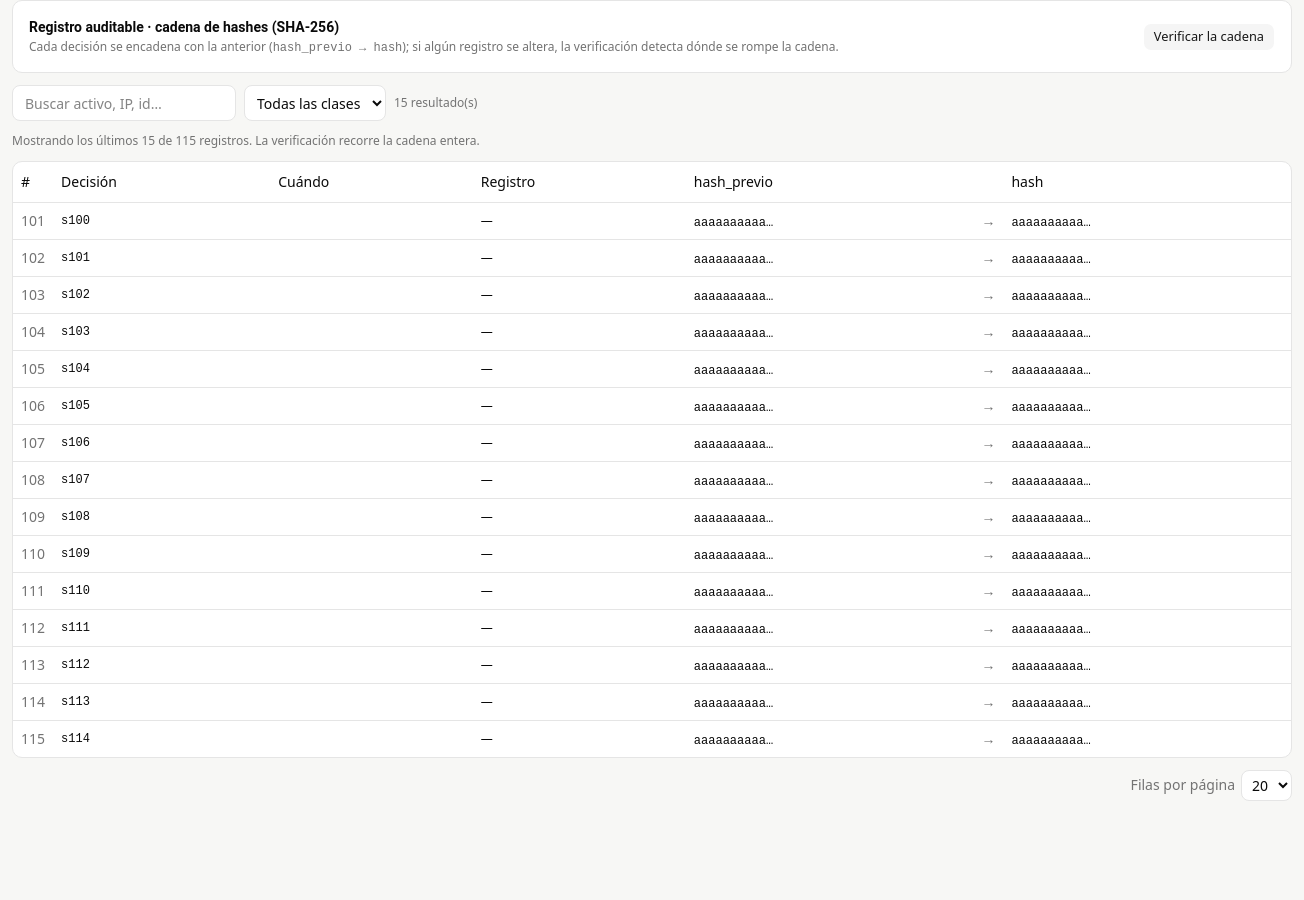
Trazas › permite elegir el tamaño de página (10/20/50)
This screenshot has width=1304, height=900.
Expected: the button "Siguiente" is not shown
Step 1. Select "10" in the dropdown labelled "Filas por página" → (1266, 785), box [1241,770,1292,800]
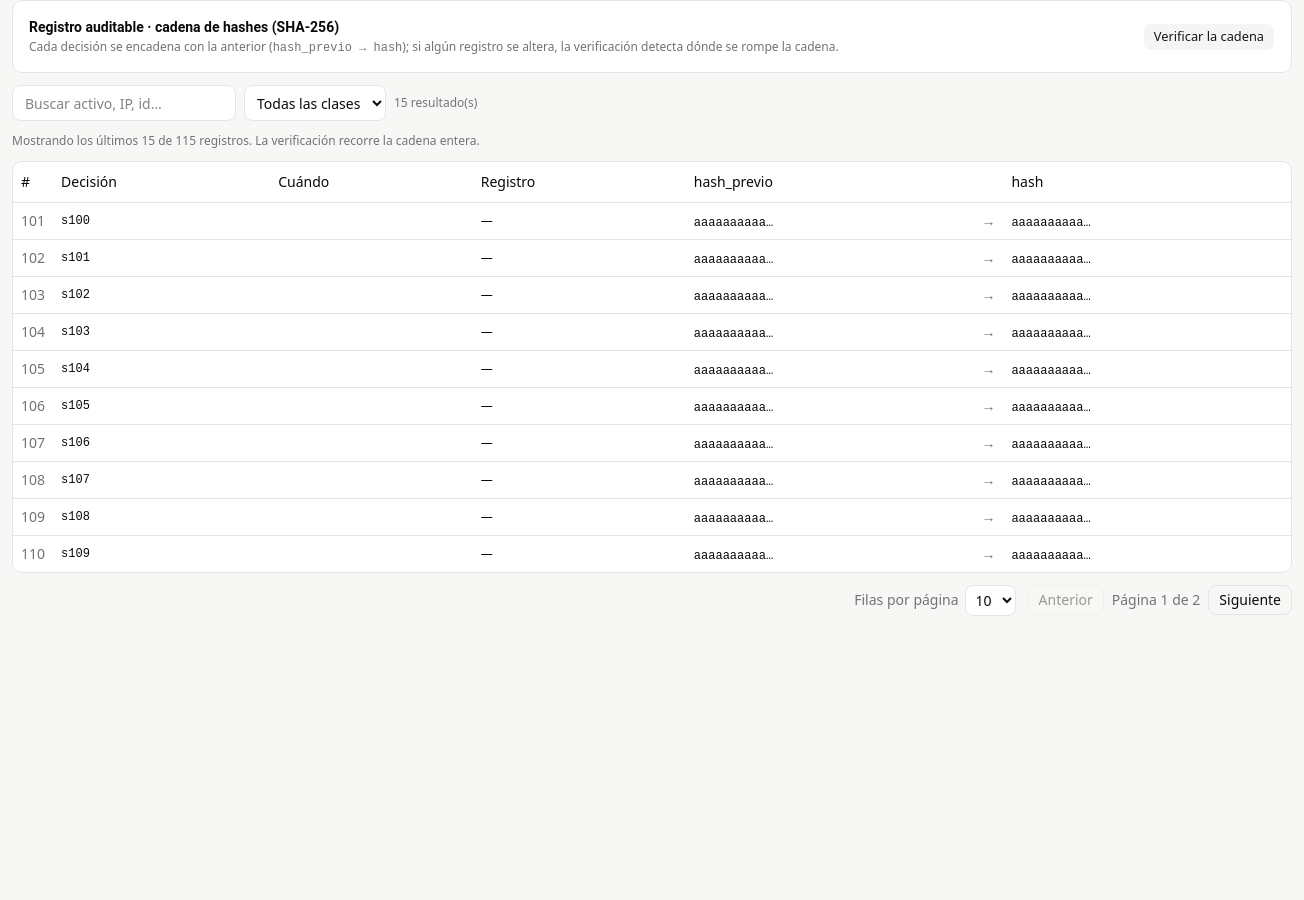
Expected: the text "s100" is shown, [53,202,270,239]
Expected: the text "Página 1 de 2" is shown, [1112,590,1200,610]
Expected: the text "s114" is gone
Step 2. Click the button "Siguiente" → click(1250, 600), box [1208,585,1292,615]
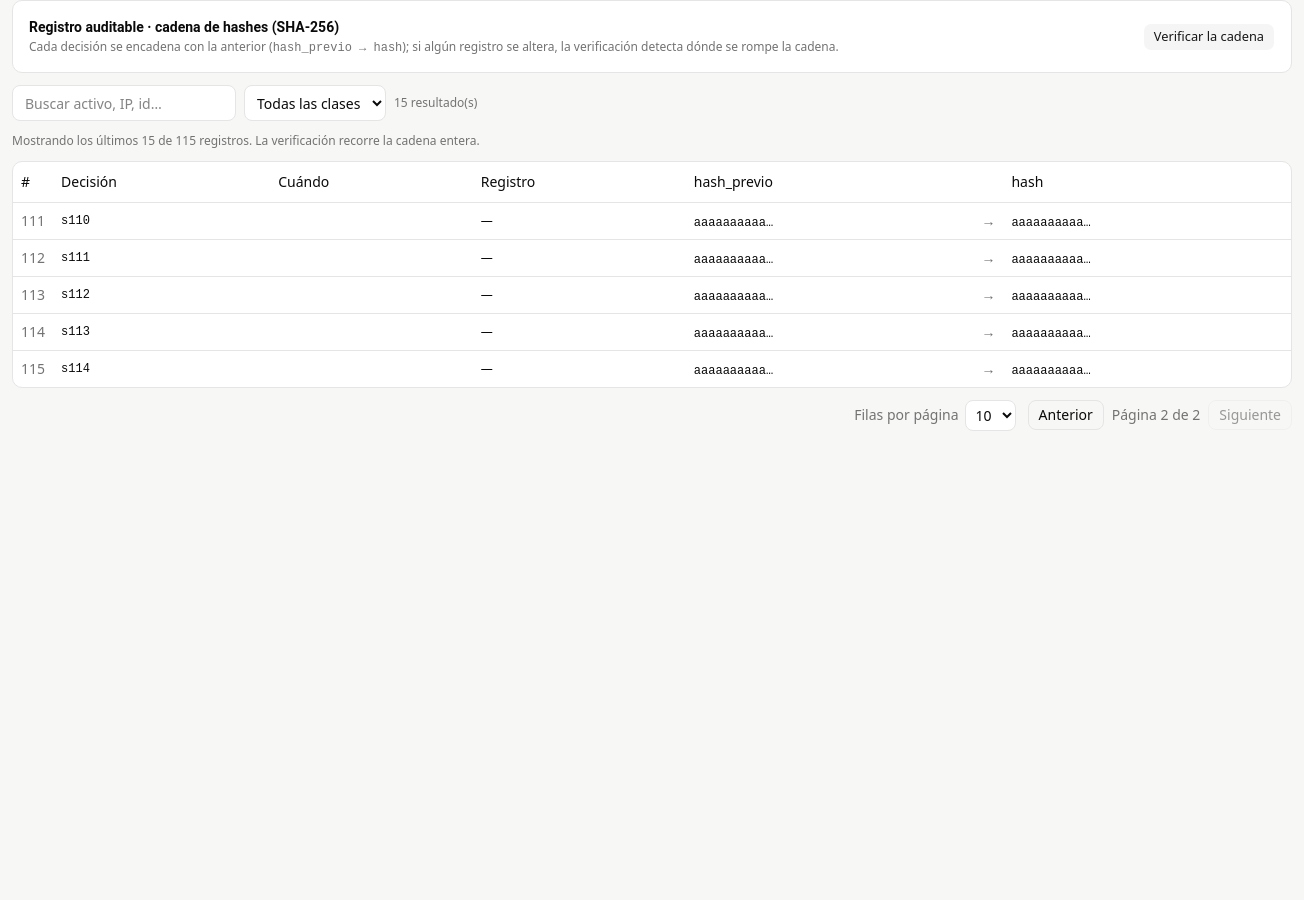
Expected: the text "s114" is shown, [53,350,270,386]
